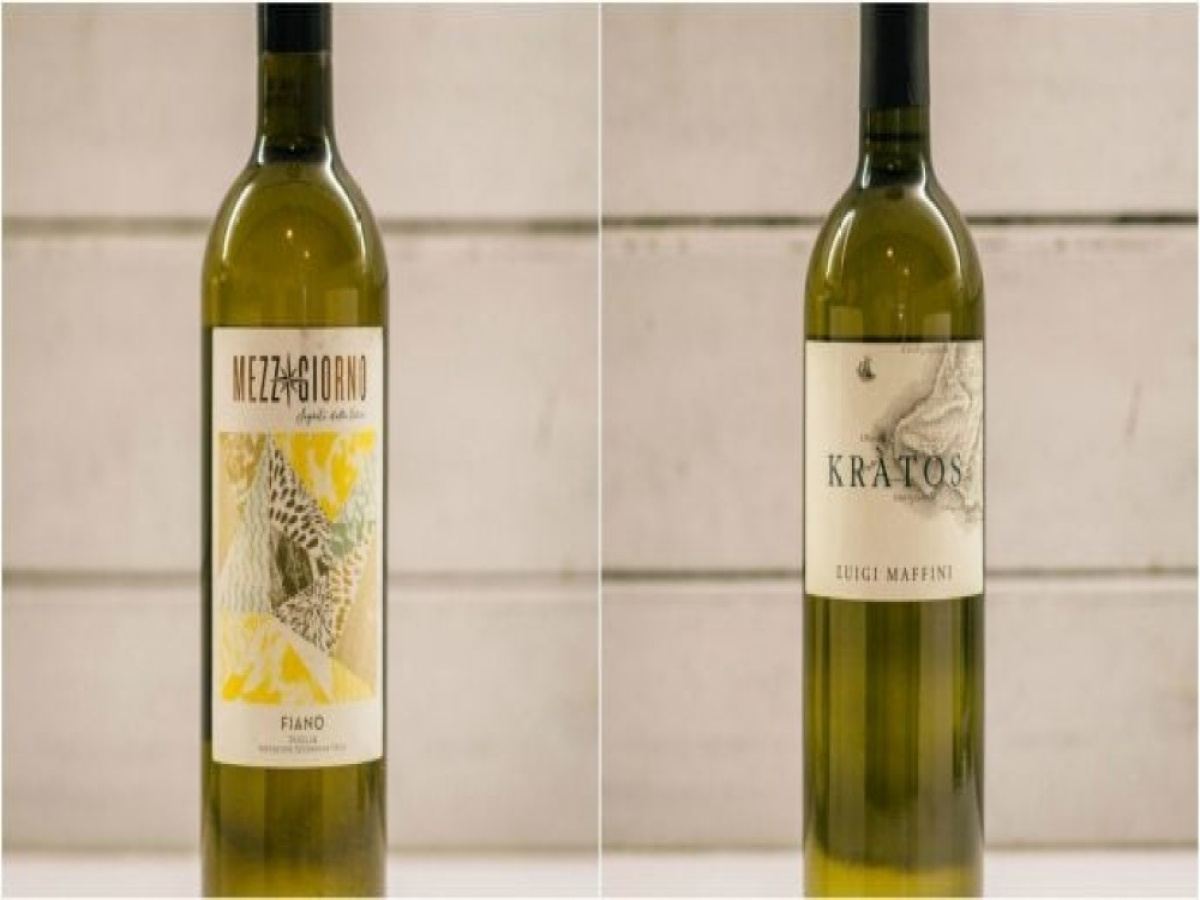wine: (199, 4, 388, 900), (805, 4, 994, 900)
